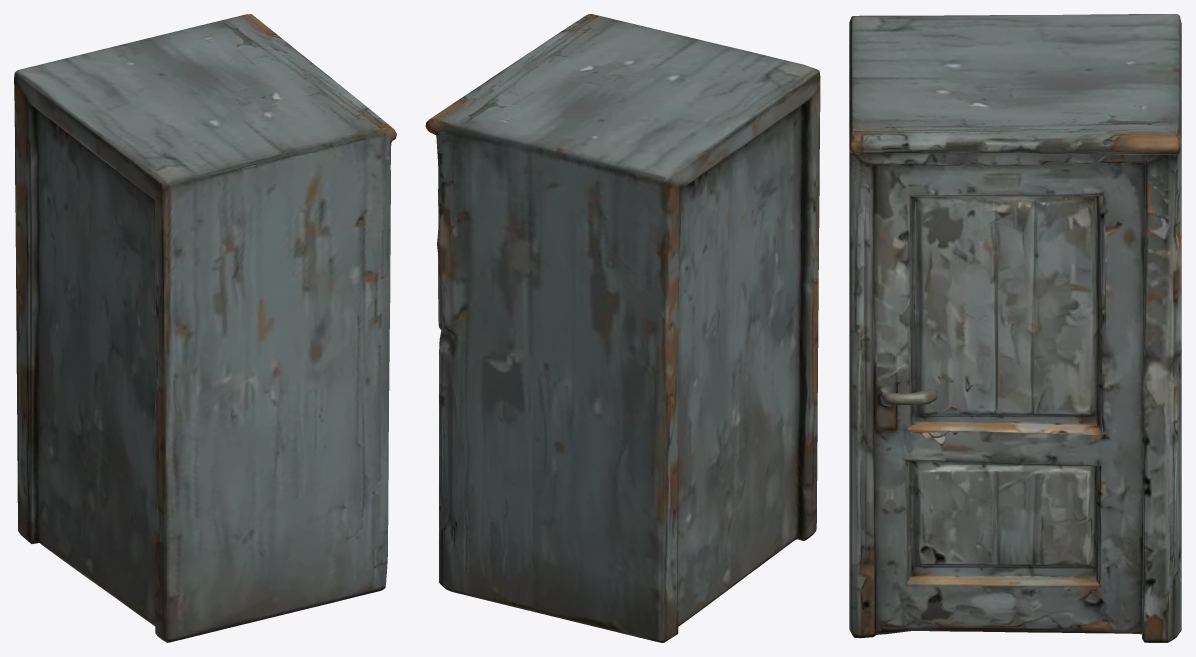
Rendered from st_door.glb.
The picture shows the model from 3 angles, left to right: view 1: azimuth 30°, elevation 25°; view 2: azimuth 150°, elevation 25°; view 3: azimuth 270°, elevation 25°; orthographic projection. The views are drawn at different scales.
Parts seen in each view (by area): view 1: tripo_node_528f711a-ffe9-4d67-989c-b2c37e196915; view 2: tripo_node_528f711a-ffe9-4d67-989c-b2c37e196915; view 3: tripo_node_528f711a-ffe9-4d67-989c-b2c37e196915.
Boxes of the visible parts, x1,y1,x2,y2 form: tripo_node_528f711a-ffe9-4d67-989c-b2c37e196915: [14, 14, 396, 642]; tripo_node_528f711a-ffe9-4d67-989c-b2c37e196915: [425, 14, 820, 642]; tripo_node_528f711a-ffe9-4d67-989c-b2c37e196915: [849, 14, 1181, 642].
Size of the model in its own units: 0.5469 by 1 by 0.5934.
1 material, 1 textured.
